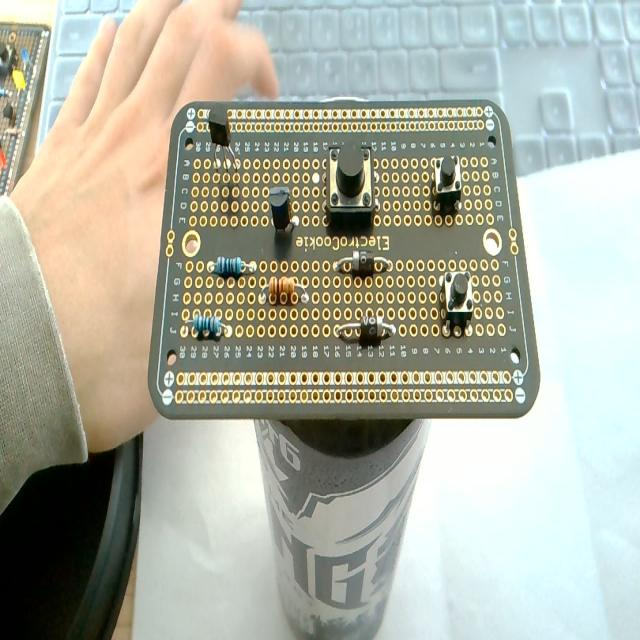diode: (338, 316, 396, 346), (334, 251, 391, 277)
resistor: (261, 276, 307, 306), (206, 254, 254, 278), (188, 314, 229, 340)
switch: (324, 141, 377, 225), (439, 268, 473, 337), (432, 154, 463, 214)
transistor: (207, 103, 238, 176), (265, 182, 299, 234)
